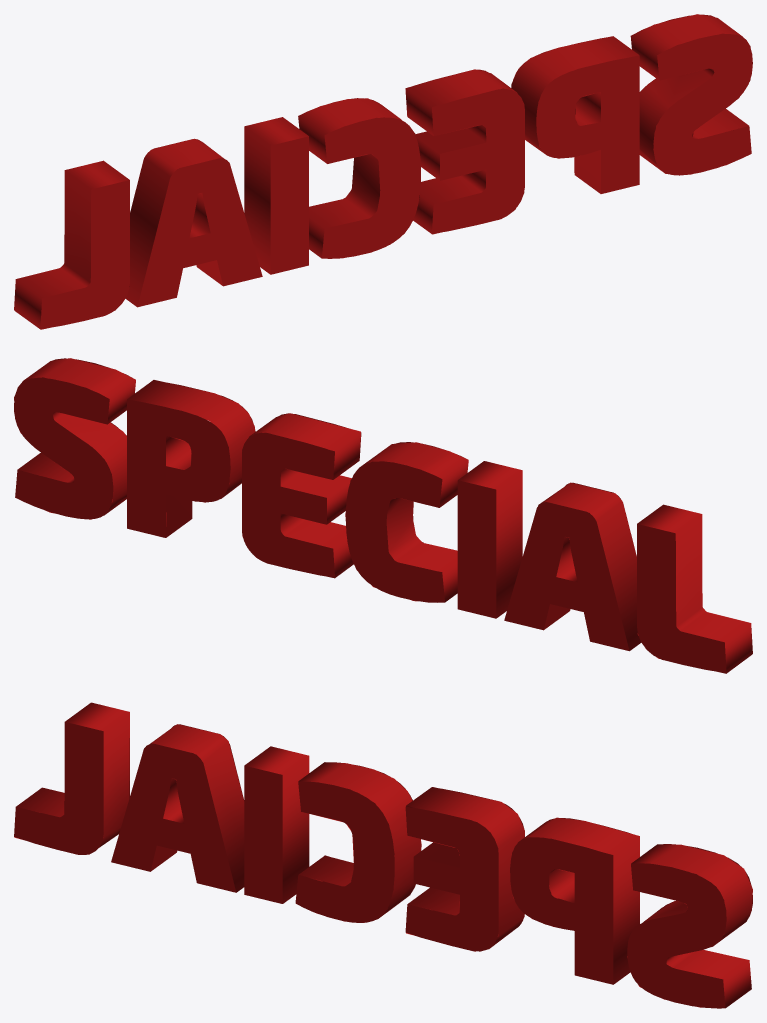
The model's file is special.fbx.
3 views of the same model, one above another, from view 1: azimuth 30°, elevation 25°; view 2: azimuth 150°, elevation 25°; view 3: azimuth 330°, elevation 25° (orthographic).
Parts seen in each view (by area): view 1: Text; view 2: Text; view 3: Text.
Boxes of the visible parts, x1,y1,x2,y2 form: Text: [14, 14, 752, 329]; Text: [14, 358, 752, 673]; Text: [14, 702, 752, 1008].
Size of the model in its own units: 12.48 by 2.25 by 0.8.
